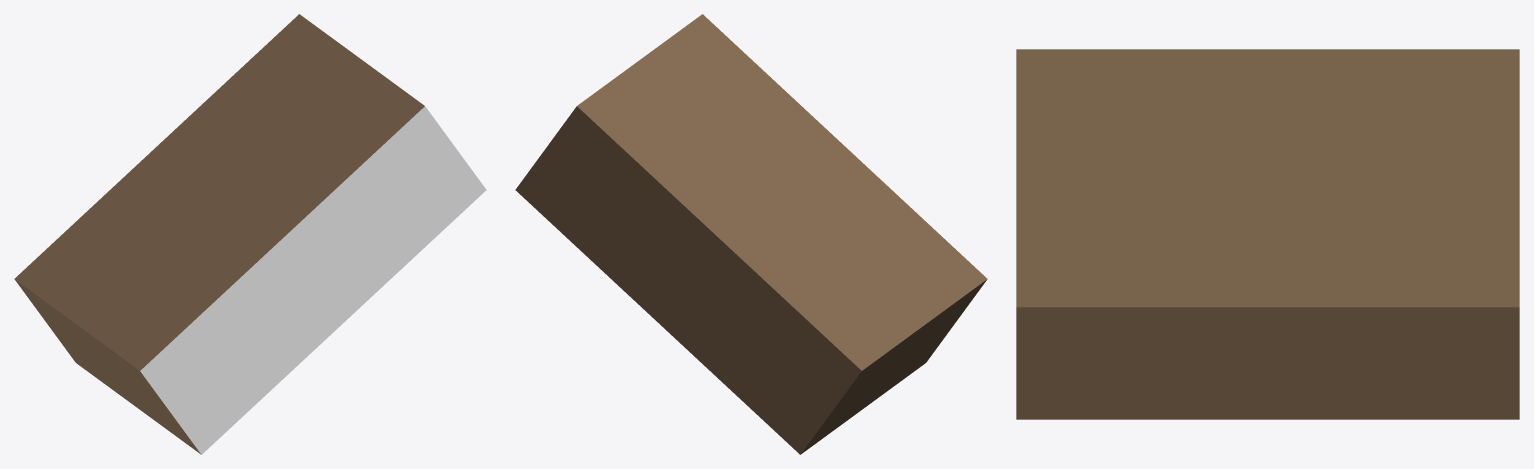
The picture shows the model from 3 angles, left to right: view 1: azimuth 30°, elevation 25°; view 2: azimuth 150°, elevation 25°; view 3: azimuth 270°, elevation 25°; orthographic projection. The views are drawn at different scales.
Visible parts, largest first — view 1: City_1884523; view 2: City_1884523; view 3: City_1884523.
Boxes of the visible parts, box(x1,y1,x2,y2) form: City_1884523: box(14, 14, 486, 454); City_1884523: box(515, 14, 987, 454); City_1884523: box(1016, 49, 1519, 419).
Size of the model in its own units: 1906 by 1546 by 1198.
